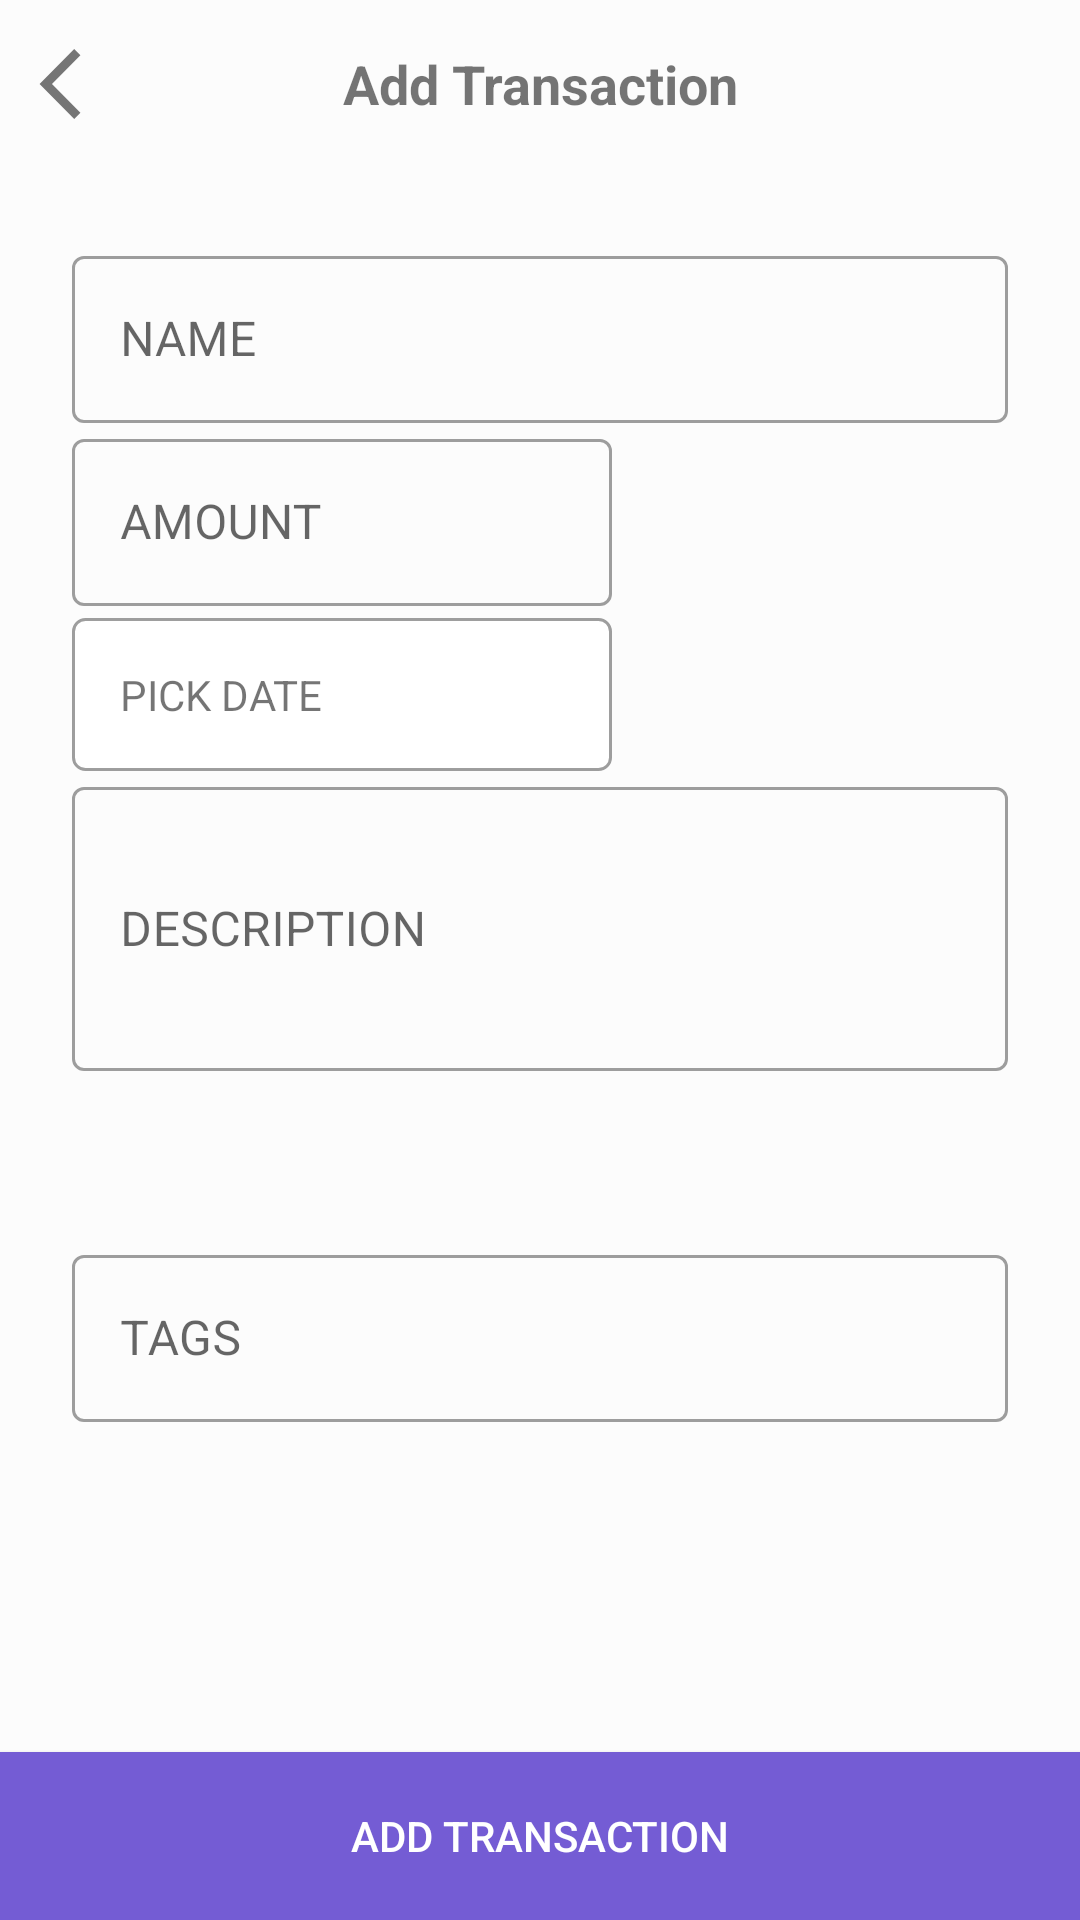

Point at icon controls on the screen. Image size 1080×1920, points as [x,y].
arrow back: [60,84]
